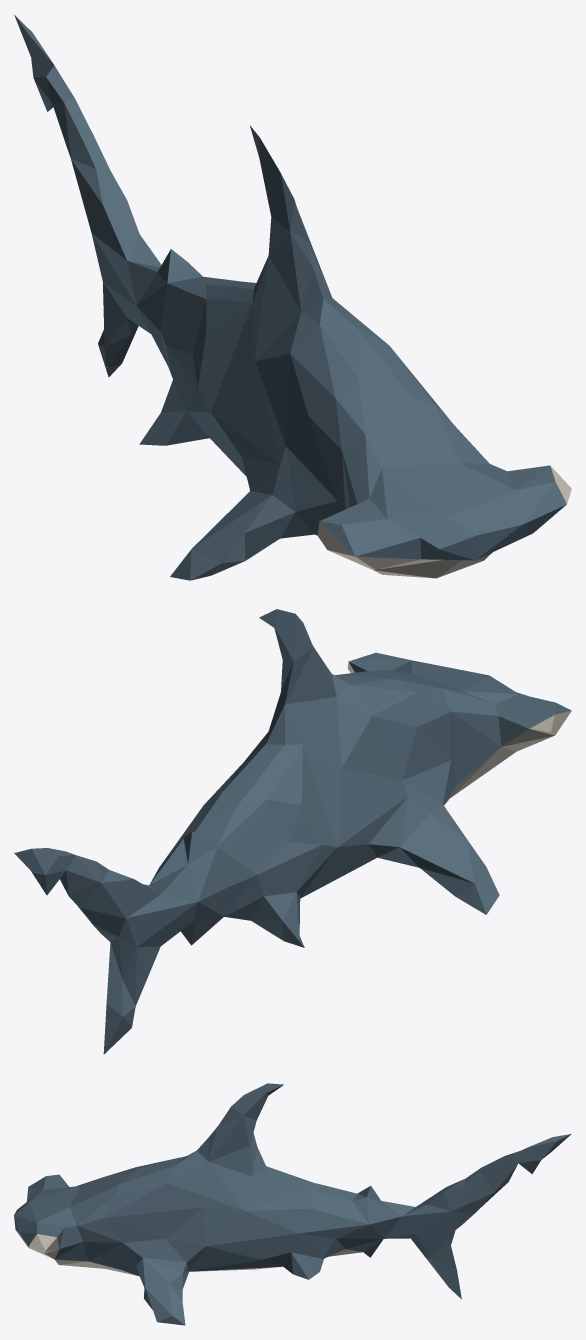
Rendered from hammerheadAnim1.glb.
3 renders of one model, top to bottom at view 1: azimuth 30°, elevation 25°; view 2: azimuth 150°, elevation 25°; view 3: azimuth 270°, elevation 25°, orthographic. The views are drawn at different scales.
Visible parts, largest first — view 1: Mesh_0; view 2: Mesh_0; view 3: Mesh_0.
Boxes of the visible parts, bbox=[...] form: Mesh_0: bbox=[14, 14, 571, 580]; Mesh_0: bbox=[14, 609, 571, 1054]; Mesh_0: bbox=[14, 1083, 571, 1325].
Bounding box in the file's own units: 0.4442 × 0.4898 × 1.17.
Materials: 1 (1 with a texture image).
